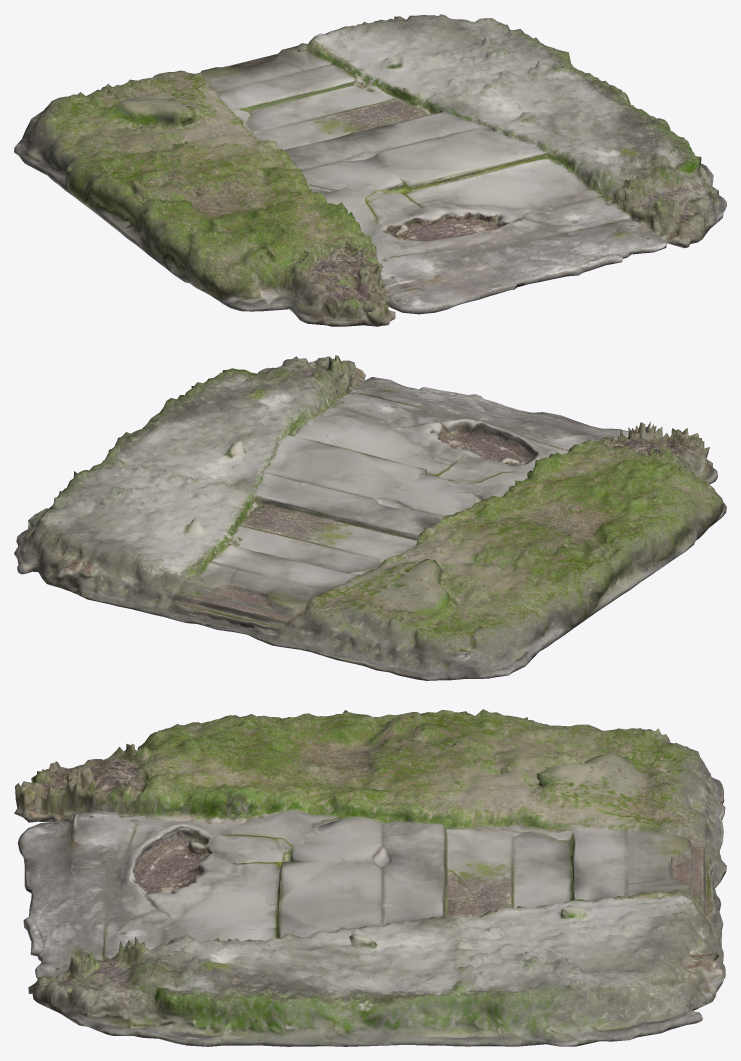
The model's file is pothole_1.glb.
The picture shows the model from 3 angles, top to bottom: view 1: azimuth 30°, elevation 25°; view 2: azimuth 150°, elevation 25°; view 3: azimuth 270°, elevation 25°; orthographic projection. The views are drawn at different scales.
Visible parts, largest first — view 1: Mesh1.0; view 2: Mesh1.0; view 3: Mesh1.0.
Boxes of the visible parts, left/top/right/bottom form: Mesh1.0: left=14, top=14, right=726, bottom=326; Mesh1.0: left=14, top=355, right=726, bottom=680; Mesh1.0: left=14, top=709, right=726, bottom=1046.
Bounding box in the file's own units: 1.89 × 0.1757 × 1.91.
Materials: 1 (1 with a texture image).
